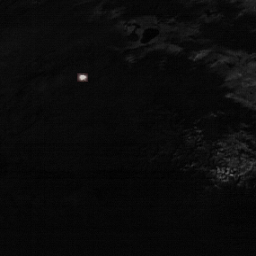Target: (78, 73, 87, 81)
